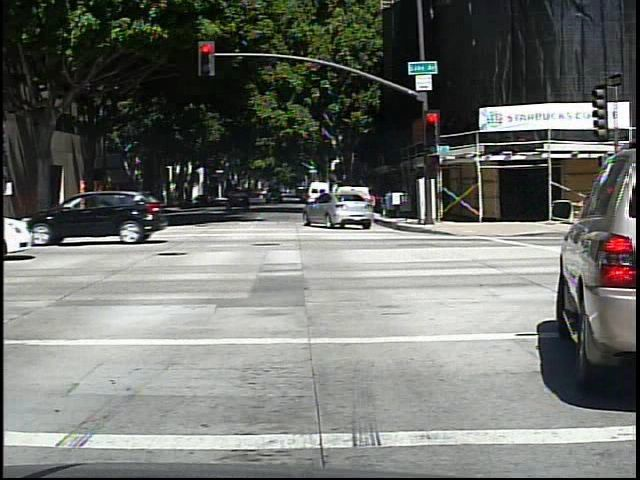person: (98, 185, 114, 220)
